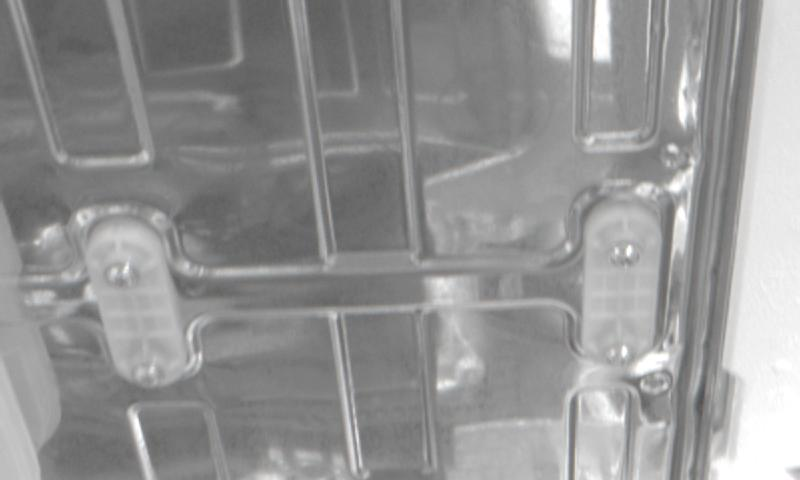vida-ok: (606, 238, 649, 283), (100, 254, 140, 299), (126, 358, 168, 398), (599, 334, 639, 373)
